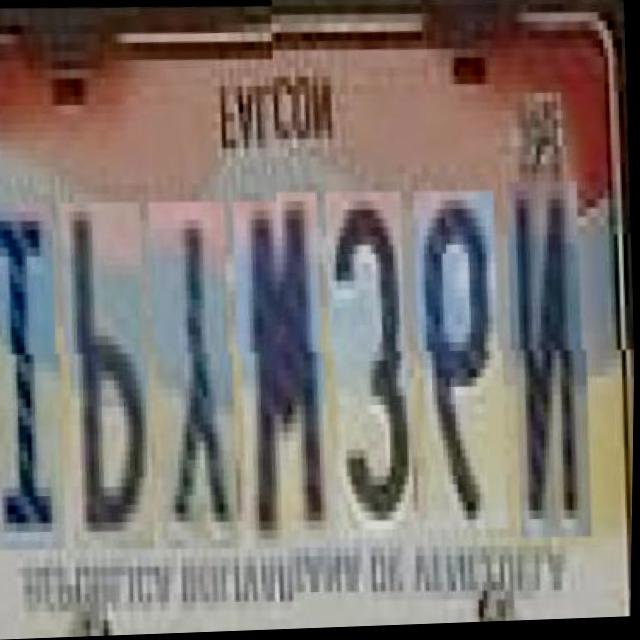3: (330, 190, 422, 541)
6: (419, 189, 515, 532)
i: (0, 192, 73, 543)
n: (511, 179, 599, 539)
p: (65, 191, 162, 543)
w: (238, 190, 338, 541)
y: (154, 190, 244, 542)
